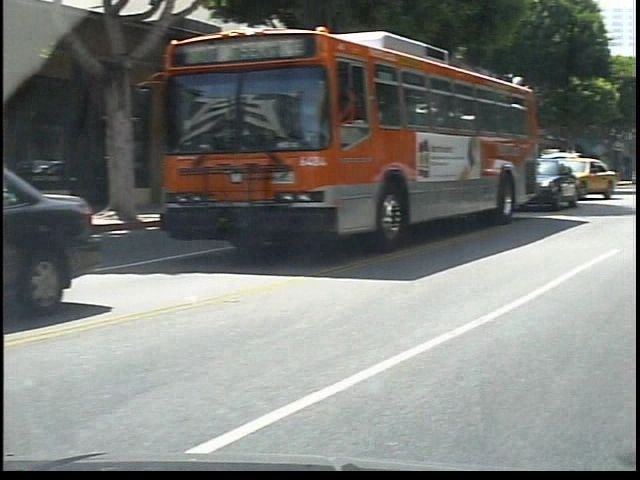car: (1, 7, 640, 478), (538, 148, 579, 211), (572, 153, 621, 201)
